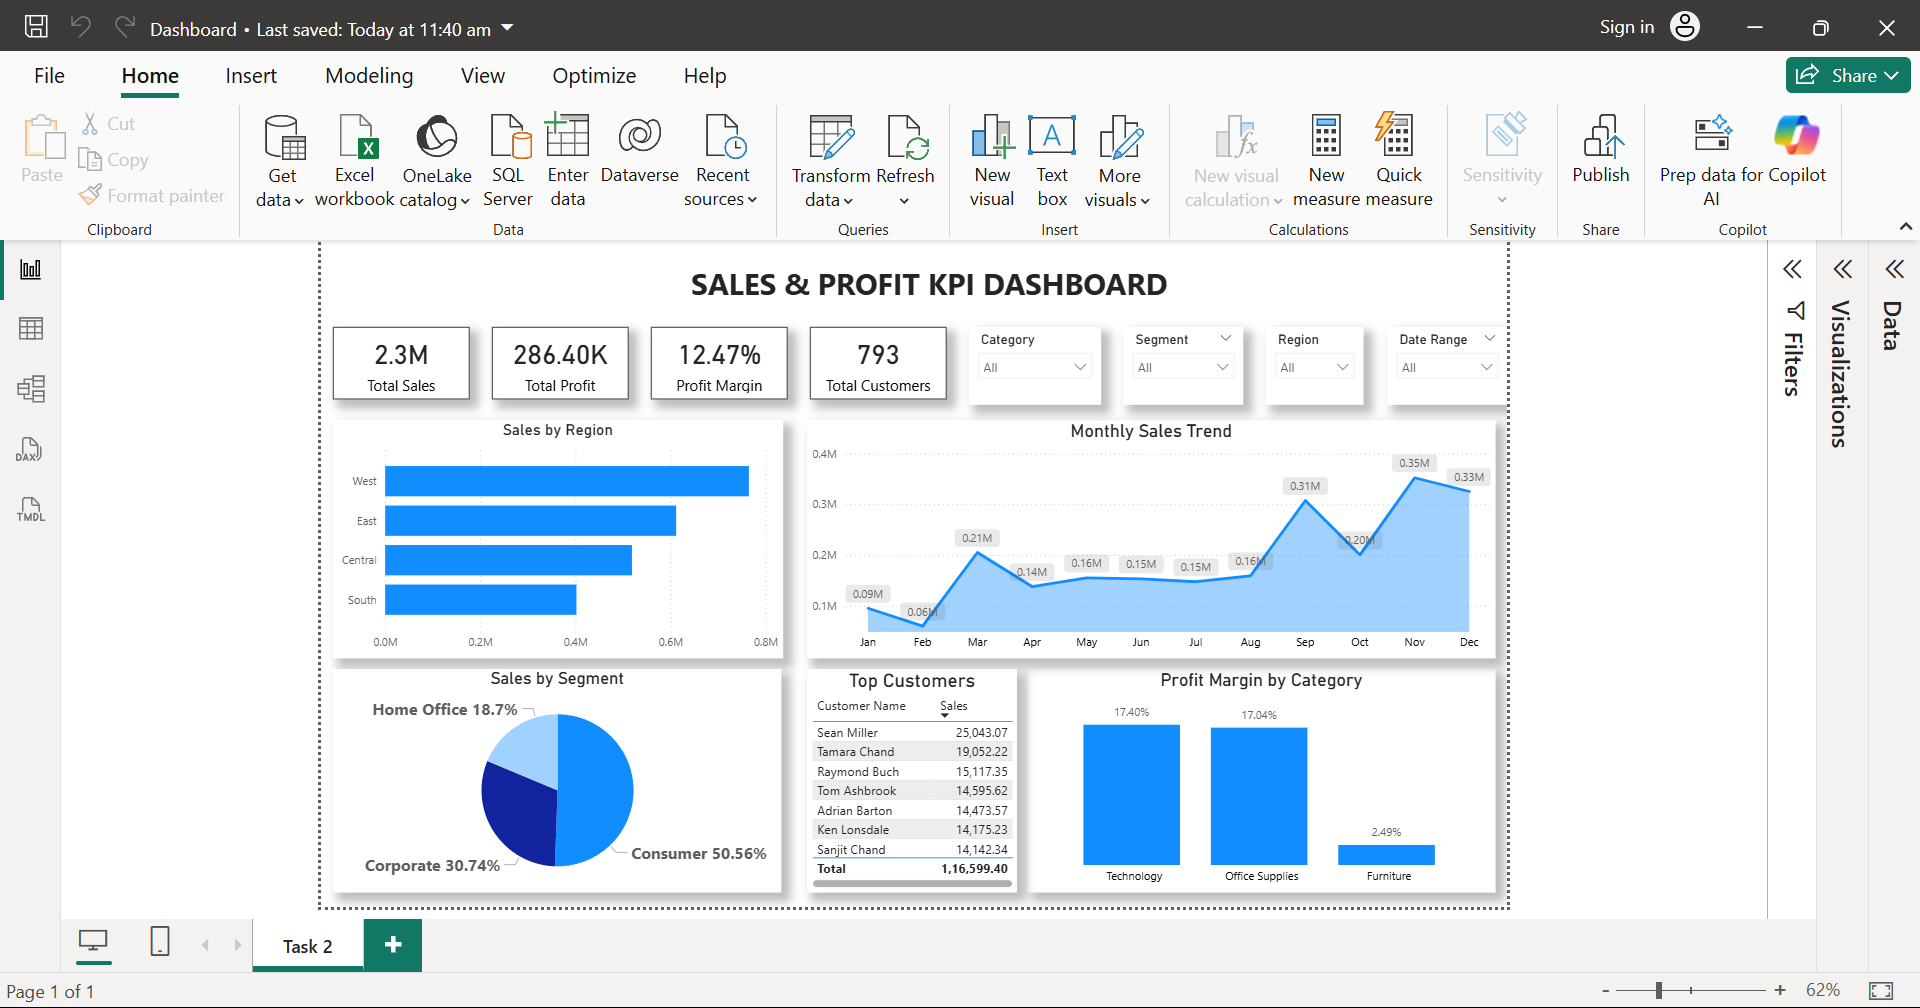

The page's visual inventory and layout, read from the dashboard file:
{"tool":"powerbi","page":{"name":"Task 2","canvas":[1280,720],"ordinal":0},"visuals":[{"type":"card","fields":{"Values":["Order.Total Sales"]},"box":[13,93.9,147.3,77.7],"z":0},{"type":"card","fields":{"Values":["Order.Total Profit"]},"box":[184.7,93.9,147.3,77.7],"z":1000},{"type":"card","fields":{"Values":["Order.Total Customers"]},"box":[528.2,93.9,147.3,77.7],"z":2000},{"type":"card","fields":{"Values":["Order.Profit Margins"]},"box":[356.5,93.9,147.3,77.7],"z":3000},{"type":"barChart","title":"Sales by Region","fields":{"Category":["Order.Region"],"Y":["Sum(Order.Sales)"]},"box":[13,194.3,485.8,257.5],"z":4000},{"type":"columnChart","title":"Profit Margin by Category","fields":{"Category":["Order.Category"],"Y":["Order.Profit Margin NEW"]},"box":[762.7,463.1,505.2,241.3],"z":5000},{"type":"lineChart","title":"Monthly Sales Trend","fields":{"Y":["Sum(Order.Sales)"],"Category":["Order.Month Name"]},"box":[524.6,194.3,743.2,257.5],"z":6000},{"type":"tableEx","title":"Top Customers","fields":{"Values":["Order.Customer Name","Sum(Order.Sales)"]},"box":[524.6,463.1,226.7,241.3],"z":7000},{"type":"pieChart","title":"Sales by Segment","fields":{"Category":["Customer.Segment"],"Y":["Order.Total Sales"]},"box":[13,463.1,484.1,241.3],"z":8000},{"type":"slicer","fields":{"Values":["Order.Region"]},"box":[1020.8,93.9,105.2,84.2],"z":9000},{"type":"slicer","fields":{"Values":["Order.Category"]},"box":[700,93.9,142.5,84.2],"z":10000},{"type":"slicer","fields":{"Values":["Order.Order Date"]},"box":[1150.5,93.9,129.5,84.2],"z":11000},{"type":"slicer","fields":{"Values":["Customer.Segment"]},"box":[866.9,93.9,129.5,84.2],"z":12000},{"type":"textbox","box":[64.8,19.4,1183.7,56.7],"z":13000}]}

Visuals, with their boxes on the page's 1280x720 design canvas (x1, y1, x2, y2). These are canvas units, not pixel positions in the 1920x1008 screenshot, which may show the page scaled, cropped or inside an application window:
card - Order.Total Sales: 13, 94, 160, 172
card - Order.Total Profit: 185, 94, 332, 172
card - Order.Total Customers: 528, 94, 676, 172
card - Order.Profit Margins: 356, 94, 504, 172
"Sales by Region" barChart: 13, 194, 499, 452
"Profit Margin by Category" columnChart: 763, 463, 1268, 704
"Monthly Sales Trend" lineChart: 525, 194, 1268, 452
"Top Customers" tableEx: 525, 463, 751, 704
"Sales by Segment" pieChart: 13, 463, 497, 704
slicer - Order.Region: 1021, 94, 1126, 178
slicer - Order.Category: 700, 94, 842, 178
slicer - Order.Order Date: 1150, 94, 1280, 178
slicer - Customer.Segment: 867, 94, 996, 178
textbox: 65, 19, 1248, 76
